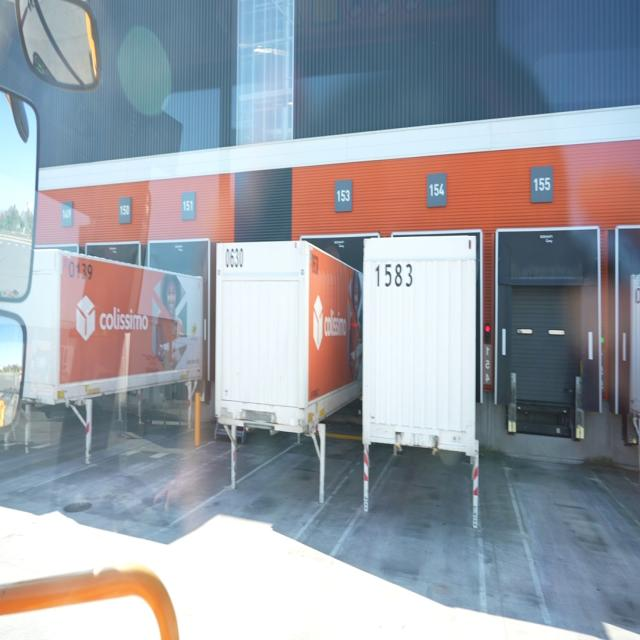Code: (364, 256, 414, 292), (66, 258, 95, 288), (219, 245, 251, 272)
